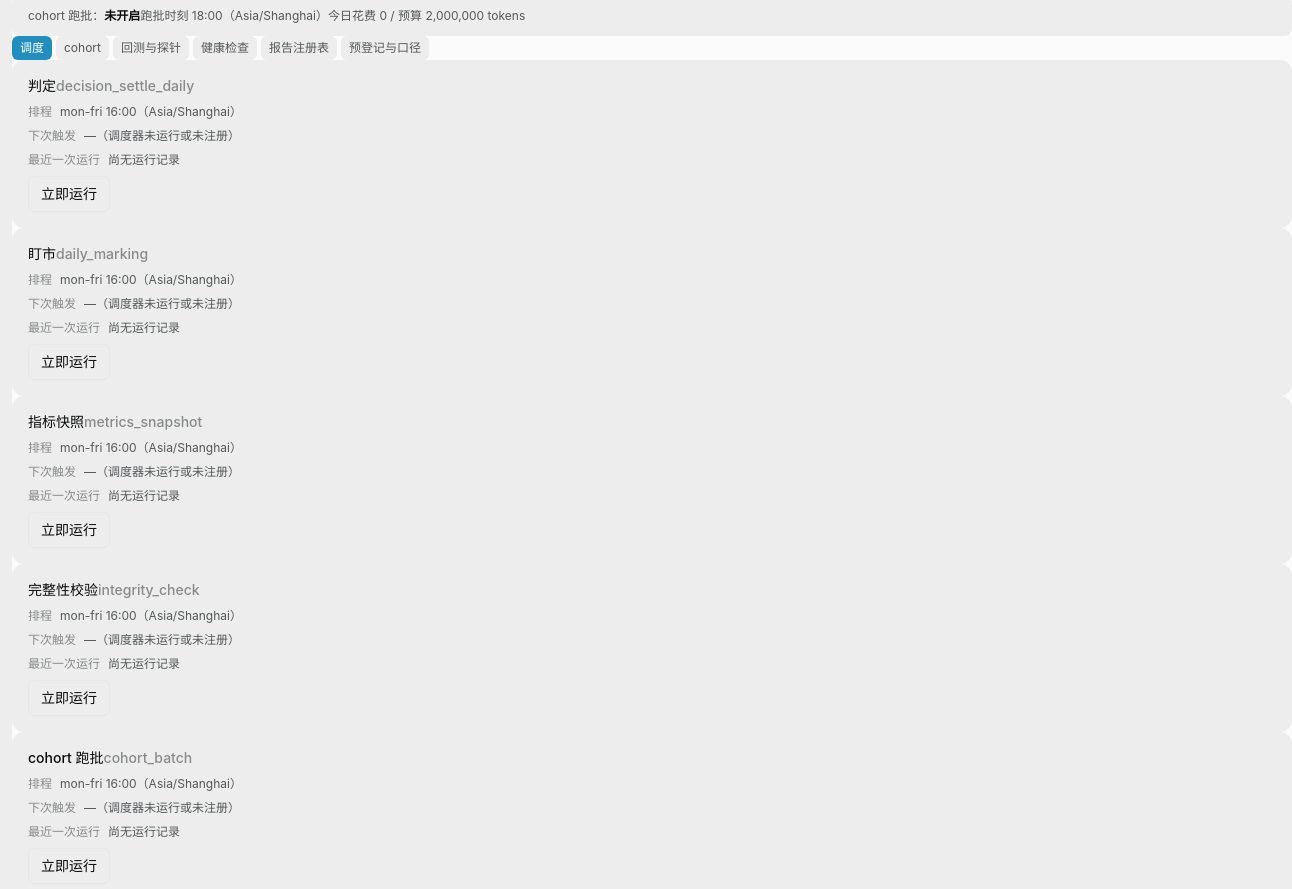
it: EvalOpsPane 评估运维分区（add-eval-ops-console Task 6） › cohort 关闭时手动跑批被拒：展示服务端原因，不静默
The width and height of the screenshot is (1292, 889).
(page scrolled)
Click the button with test id "eval-ops-run-cohort_batch": click(69, 866) [28,848,110,884]
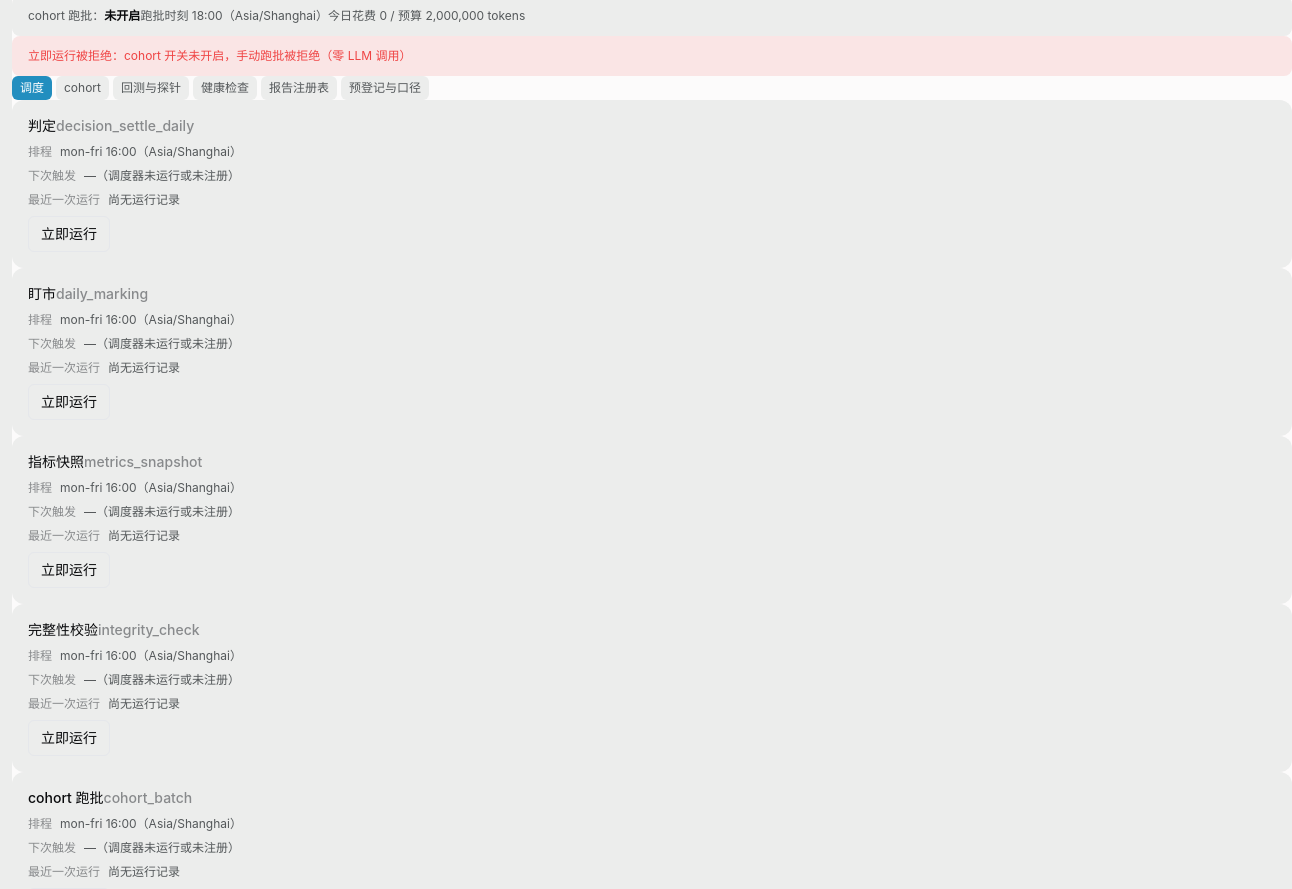
Expected: the text with test id "eval-ops-error" shows "开关未开启", [28,48,412,63]
